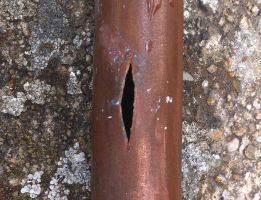rupture: (118, 61, 138, 146)
